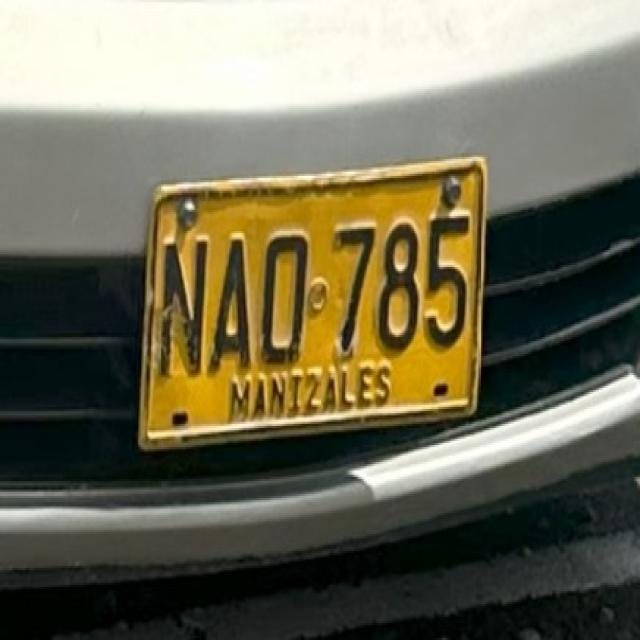number plate: (137, 155, 483, 445)
